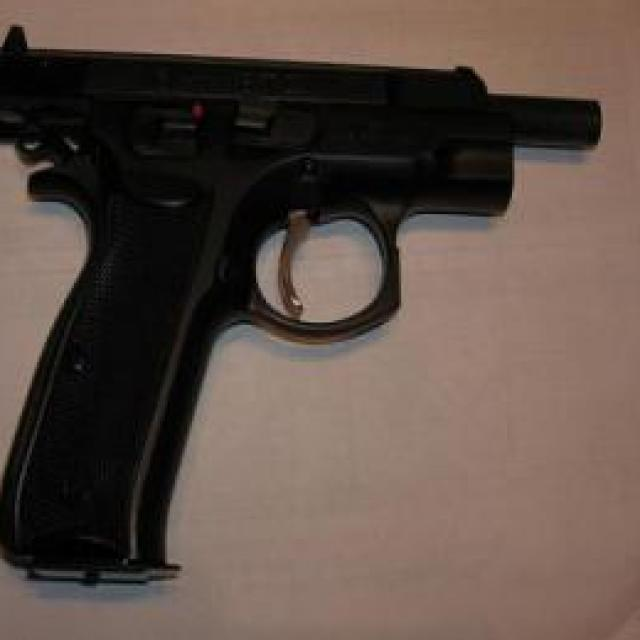pistol: (0, 22, 603, 596)
